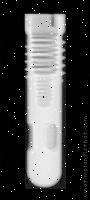Camlog: (22, 14, 66, 189)
